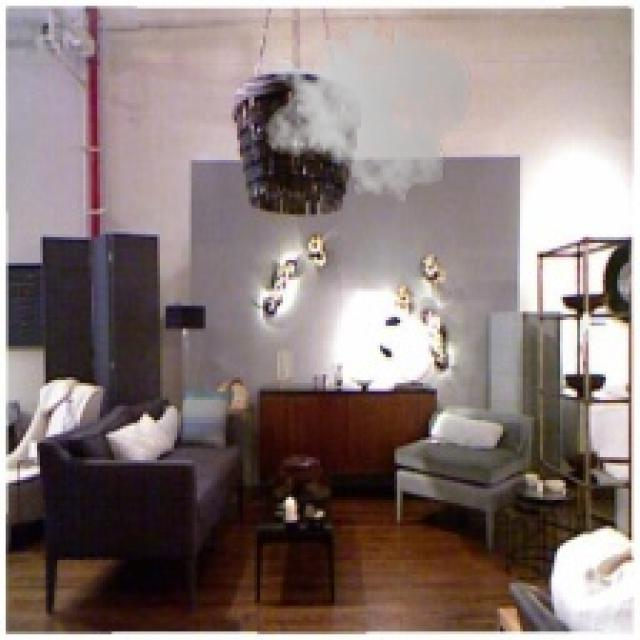smoke: (263, 3, 474, 208)
